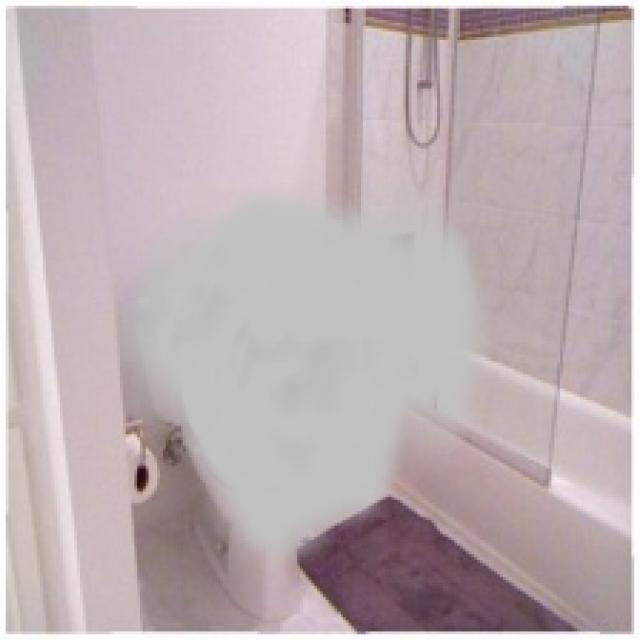Smoke: (109, 182, 492, 568)
